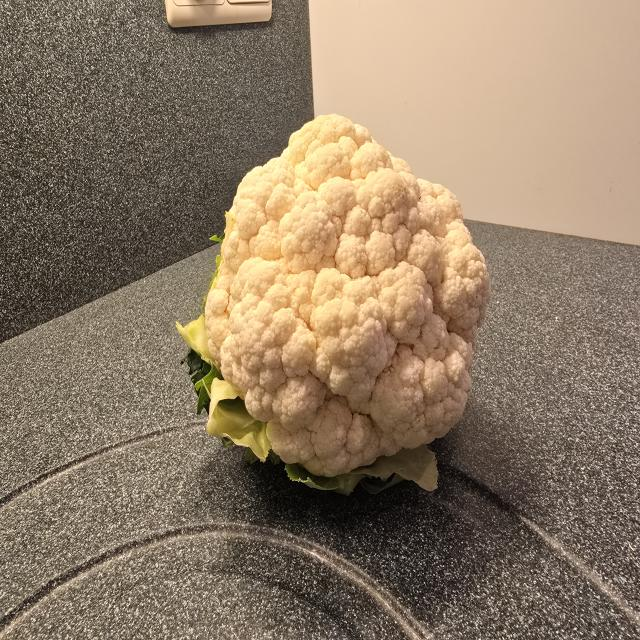Cauliflower: (170, 105, 499, 501)
